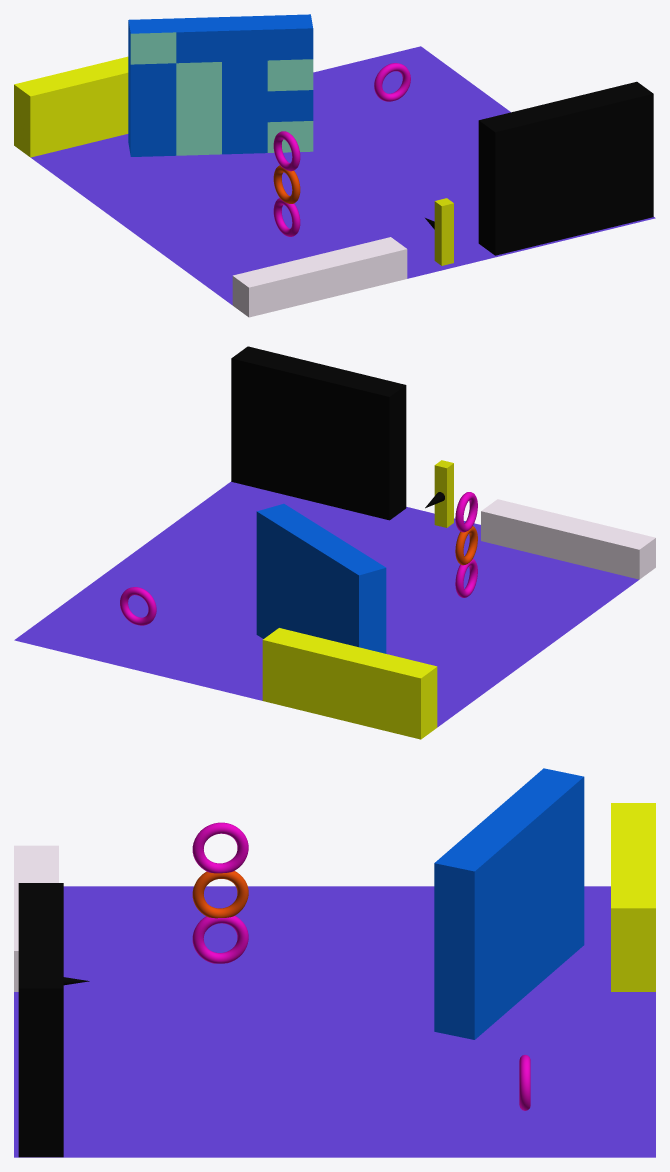
3 renders of one model, top to bottom at view 1: azimuth 30°, elevation 25°; view 2: azimuth 150°, elevation 25°; view 3: azimuth 270°, elevation 25°, orthographic. The views are drawn at different scales.
Parts seen in each view (by area): view 1: platform, wall, Cube.001, platform.002, platform.001, player, Torus, Torus.003, Torus.001, Torus.002; view 2: platform, Cube.001, wall, platform.002, platform.001, player, Torus, Torus.003, Torus.002, Torus.001; view 3: platform, wall, Cube.001, platform.002, platform.001, Torus.003, Torus.001, Torus.002, Torus.
Boxes of the visible parts, box(x1,y1,x2,y2) form: platform: box(31, 46, 655, 305); wall: box(128, 14, 313, 156); Cube.001: box(478, 81, 653, 255); platform.002: box(14, 56, 128, 157); platform.001: box(232, 237, 407, 317); player: box(434, 198, 453, 265); Torus: box(374, 63, 410, 101); Torus.003: box(273, 131, 300, 171); Torus.001: box(273, 198, 300, 236); Torus.002: box(273, 165, 300, 203); platform: box(14, 481, 638, 727); Cube.001: box(231, 346, 406, 520); wall: box(256, 503, 386, 653); platform.002: box(262, 628, 437, 739); platform.001: box(481, 499, 655, 579); player: box(434, 460, 453, 527); Torus: box(120, 587, 156, 625); Torus.003: box(455, 492, 477, 532); Torus.002: box(455, 526, 477, 565); Torus.001: box(455, 559, 477, 597); platform: box(14, 886, 655, 1157); wall: box(434, 768, 584, 1039); Cube.001: box(18, 883, 63, 1157); platform.002: box(611, 803, 655, 991); platform.001: box(14, 845, 58, 991); Torus.003: box(192, 822, 248, 873); Torus.001: box(192, 916, 248, 963); Torus.002: box(192, 871, 248, 918); Torus: box(519, 1055, 530, 1110).
Bounding box in the file's own units: 28.51 × 8.34 × 28.51.
